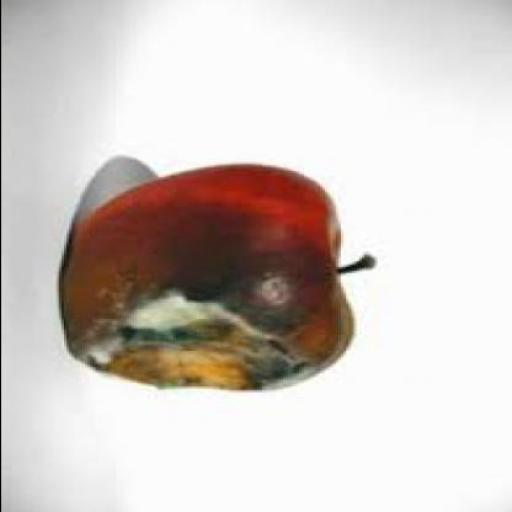biodegradable: (60, 162, 376, 388)
